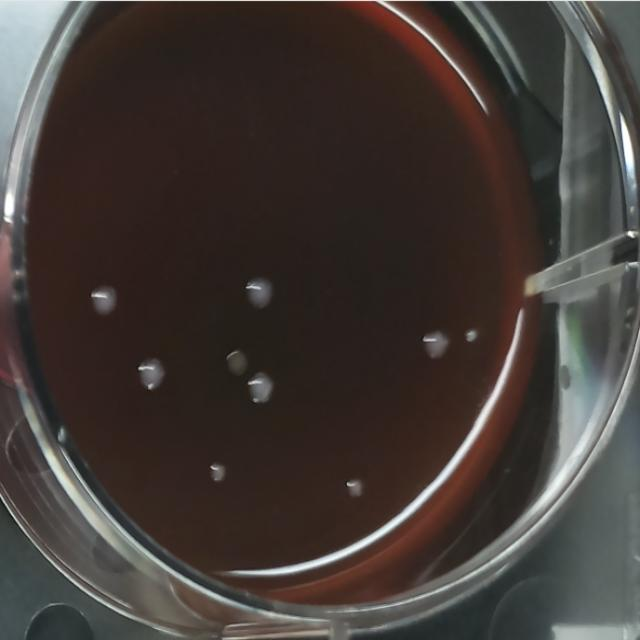Acinetobacter: (134, 353, 169, 395), (242, 272, 277, 312), (87, 282, 120, 320), (419, 324, 451, 362), (246, 368, 276, 406), (342, 472, 368, 503), (206, 458, 228, 487)
Staphylococcus: (461, 323, 482, 348)
Vagococcus: (222, 346, 252, 384)
